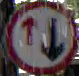Two way: (3, 2, 78, 75)
